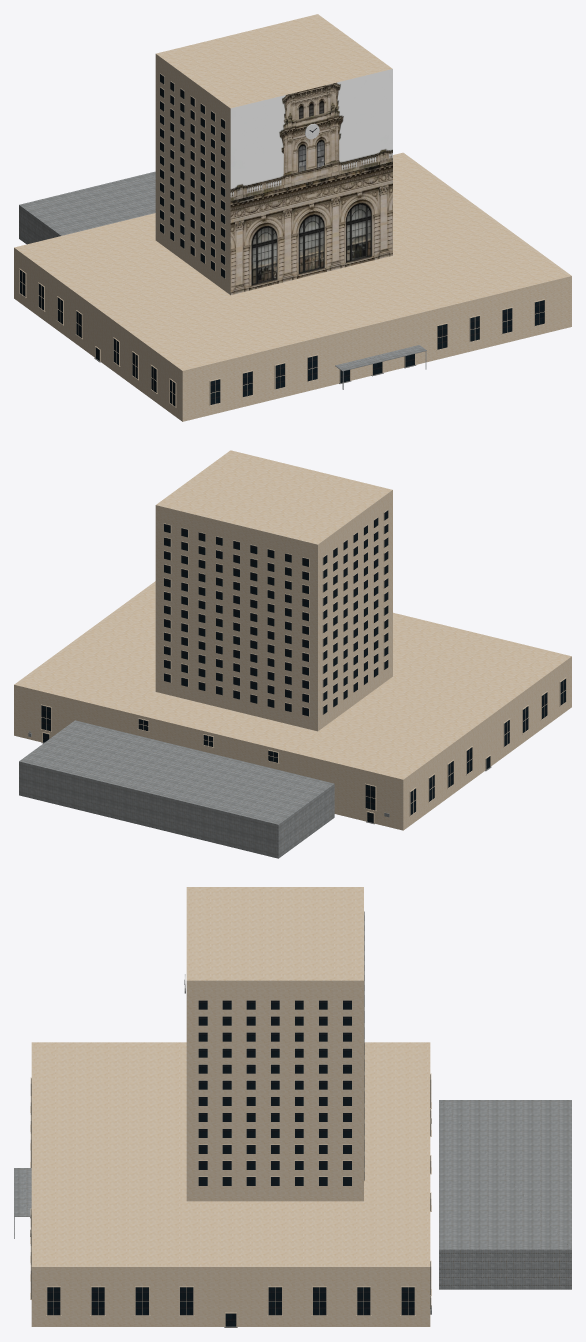
The model's file is central-station_lod0.gltf.
The picture shows the model from 3 angles, top to bottom: view 1: azimuth 30°, elevation 25°; view 2: azimuth 150°, elevation 25°; view 3: azimuth 270°, elevation 25°; orthographic projection. The views are drawn at different scales.
Visible parts, largest first — view 1: central-station_tier0, central-station_front, central-station_tier1, central-station_fen_07-glass-curtain-blue_1_t, central-station__train_shed, central-station_fen_04-limestone_0, central-station_fen_14-steel-panel_4; view 2: central-station_tier0, central-station_tier1, central-station__train_shed, central-station_fen_07-glass-curtain-blue_1_t, central-station_fen_04-limestone_0; view 3: central-station_tier0, central-station_tier1, central-station__train_shed, central-station_fen_07-glass-curtain-blue_1_t, central-station_fen_04-limestone_0, central-station_fen_14-steel-panel_4.
Part boxes in pixels (x1,y1,x2,y2): central-station_tier0: (14,152,571,421); central-station_front: (230,69,392,294); central-station_tier1: (155,14,392,294); central-station_fen_07-glass-curtain-blue_1_t: (20,74,544,406); central-station__train_shed: (19,171,155,244); central-station_fen_04-limestone_0: (19,73,545,407); central-station_fen_14-steel-panel_4: (335,345,426,389); central-station_tier0: (14,581,571,830); central-station_tier1: (155,450,392,731); central-station__train_shed: (19,720,334,858); central-station_fen_07-glass-curtain-blue_1_t: (41,510,565,822); central-station_fen_04-limestone_0: (40,510,566,823); central-station_tier0: (31,1042,430,1326); central-station_tier1: (186,887,363,1201); central-station__train_shed: (439,1100,571,1289); central-station_fen_07-glass-curtain-blue_1_t: (31,912,430,1326); central-station_fen_04-limestone_0: (30,911,431,1326); central-station_fen_14-steel-panel_4: (14,1168,431,1314).
Bounding box in the file's own units: 121 × 70.02 × 126.
